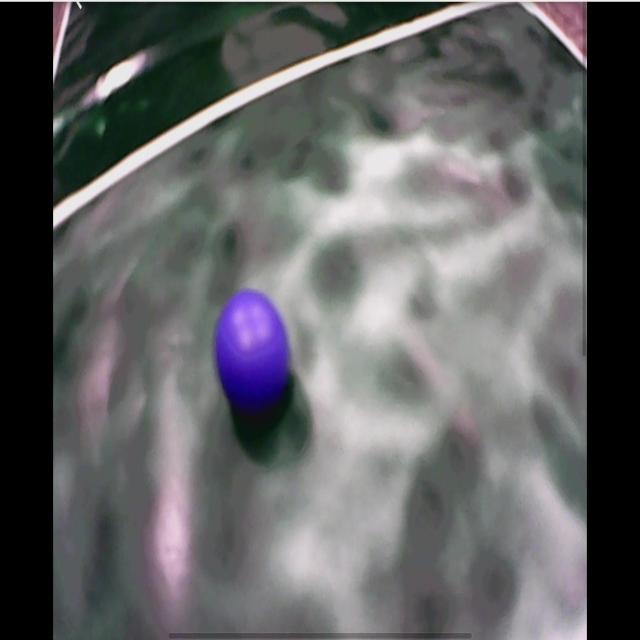ball: (215, 291, 289, 403)
